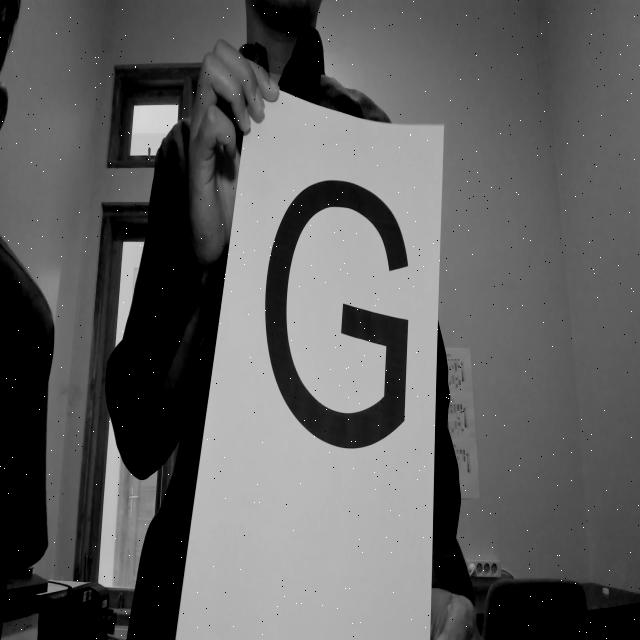g: (258, 160, 416, 460)
